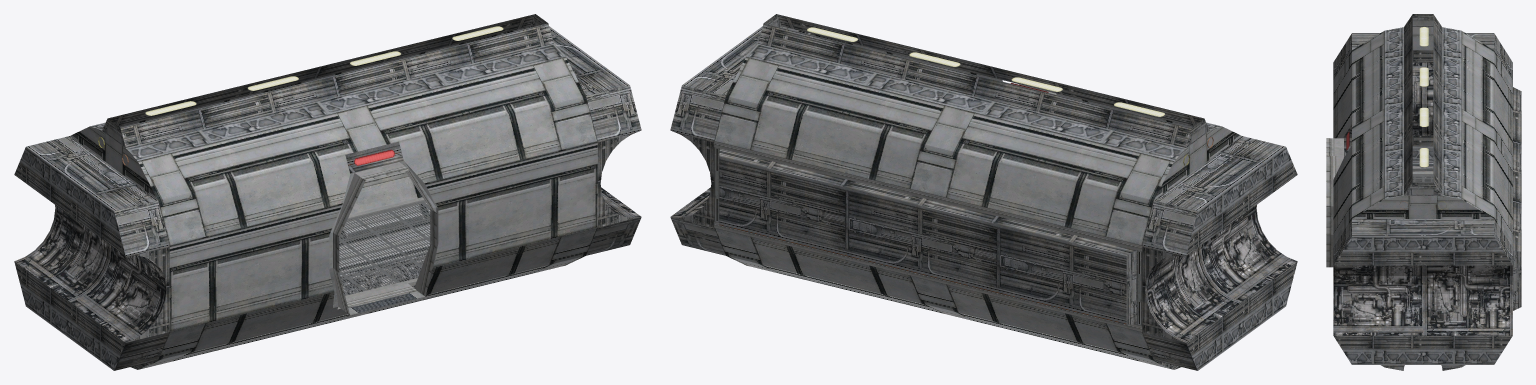
Rendered from ykl37r_r6_engineering_mesh.fbx.
The picture shows the model from 3 angles, left to right: view 1: azimuth 30°, elevation 25°; view 2: azimuth 150°, elevation 25°; view 3: azimuth 270°, elevation 25°; orthographic projection. The views are drawn at different scales.
Parts seen in each view (by area): view 1: mesh_node; view 2: mesh_node; view 3: mesh_node.
Part boxes in pixels (bbox=[...]): mesh_node: bbox=[14, 14, 641, 370]; mesh_node: bbox=[670, 14, 1297, 370]; mesh_node: bbox=[1326, 14, 1521, 370].
Bounding box in the file's own units: 12.42 × 5.37 × 5.05.
